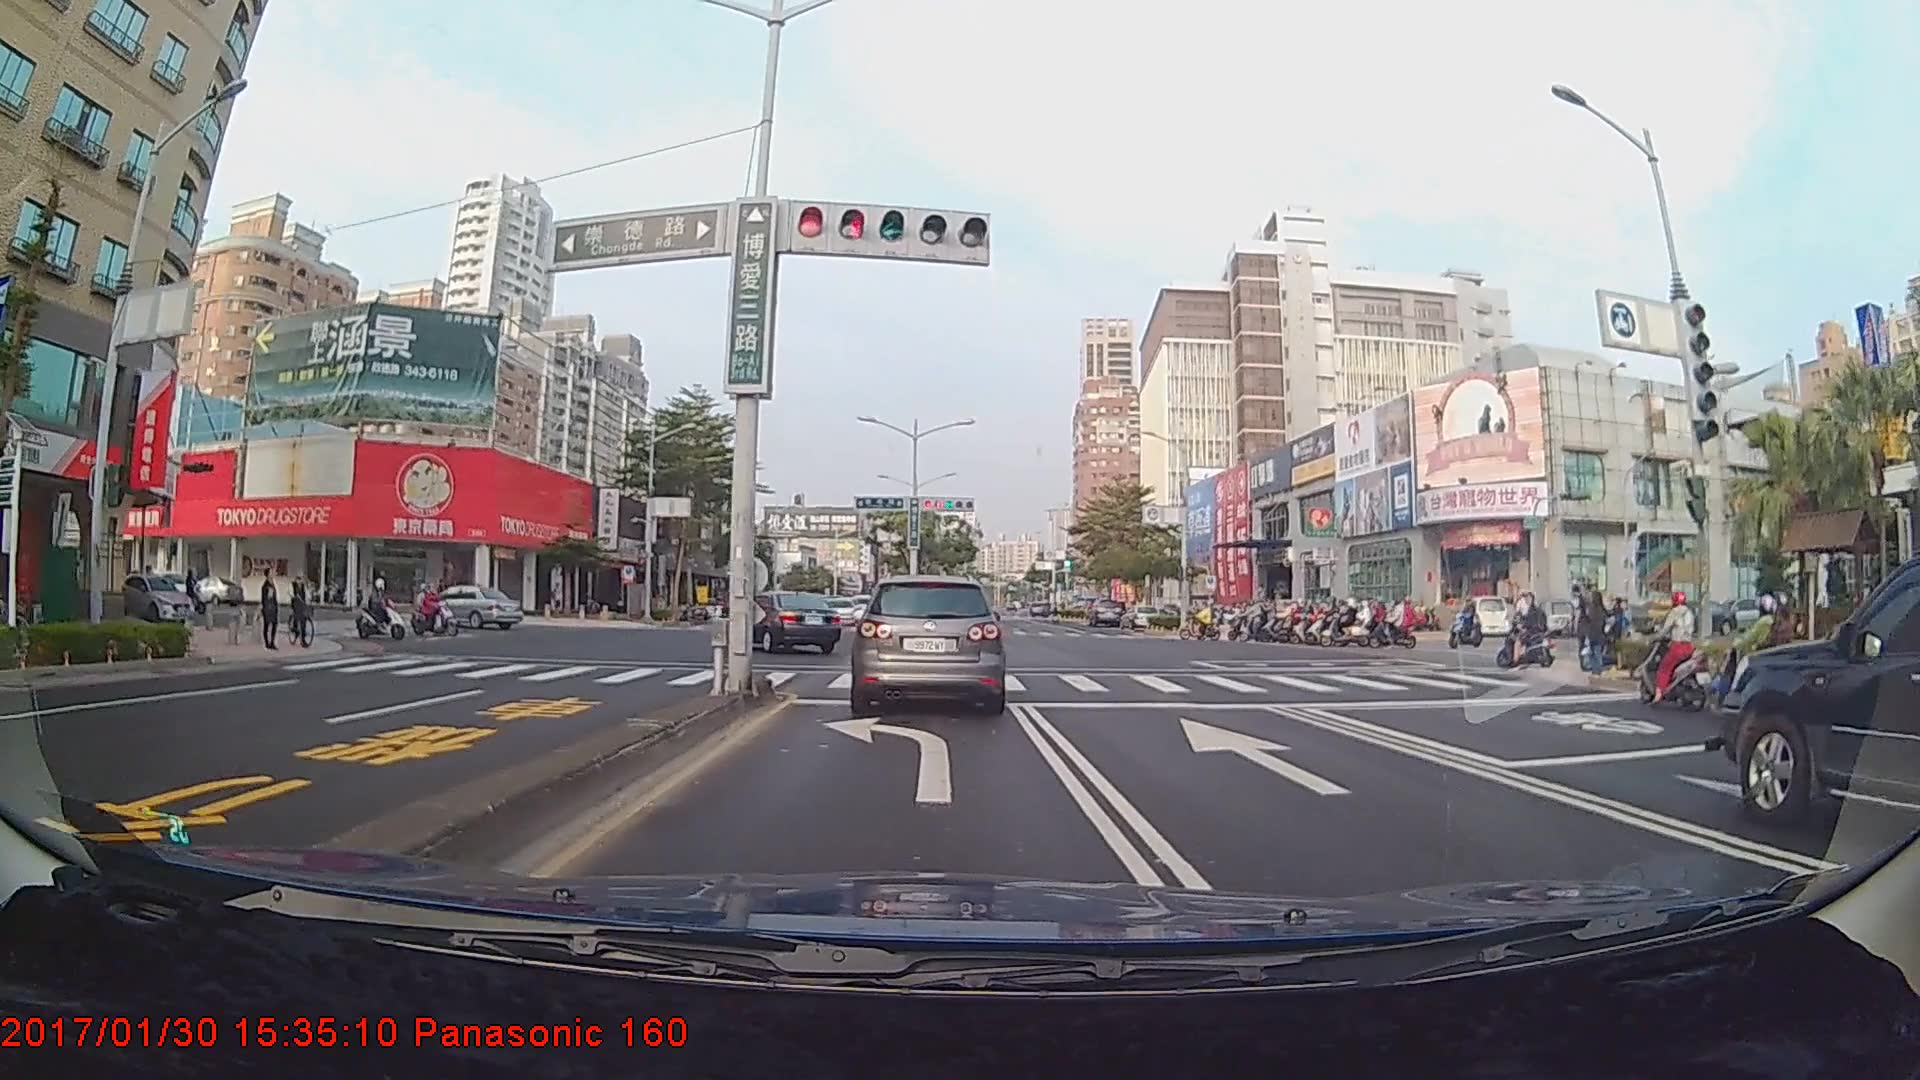pedestrian: (1583, 581, 1614, 685), (260, 570, 281, 658)
rider: (1651, 587, 1743, 720), (1708, 594, 1809, 697), (1576, 590, 1632, 678), (1491, 601, 1562, 669), (351, 578, 405, 647), (396, 578, 456, 637), (282, 566, 320, 648), (1375, 592, 1416, 652), (1322, 600, 1369, 650), (1442, 595, 1482, 650), (1223, 596, 1267, 640), (1180, 599, 1224, 640), (1302, 598, 1336, 644), (1264, 604, 1305, 642), (1288, 601, 1323, 644)
vehicle: (1723, 551, 1919, 843), (847, 570, 1007, 713), (730, 589, 840, 656), (415, 584, 522, 633), (1087, 598, 1125, 628)
